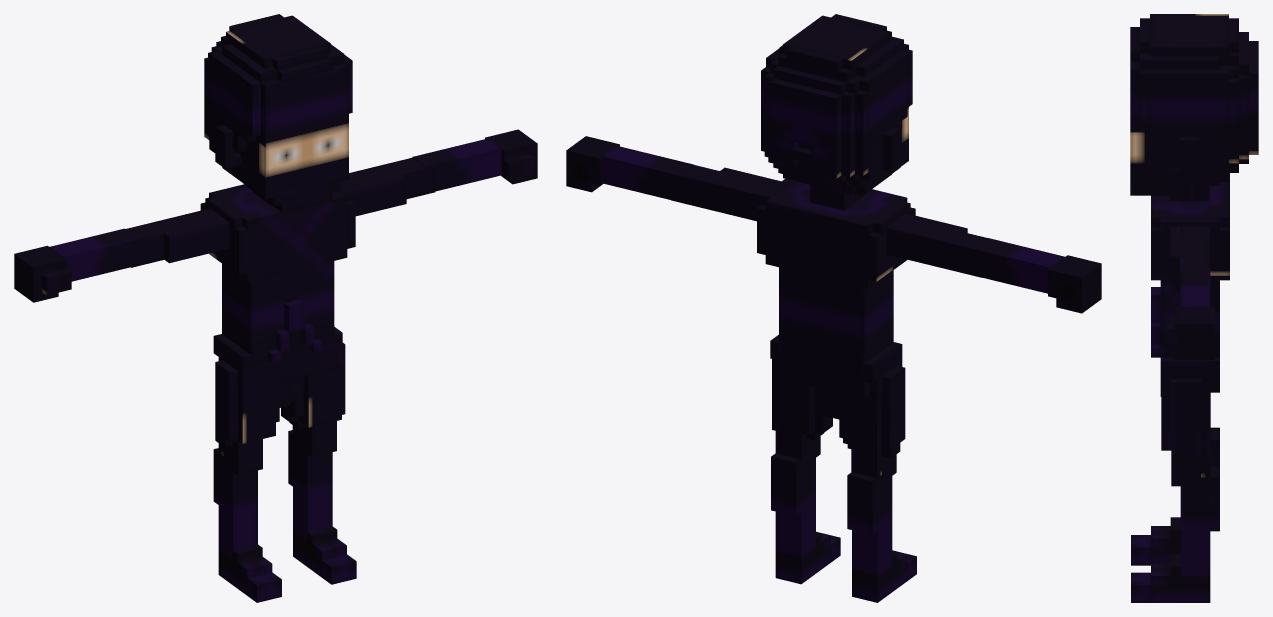
The model's file is ninja.glb.
3 views of the same model, side by side, from view 1: azimuth 30°, elevation 25°; view 2: azimuth 150°, elevation 25°; view 3: azimuth 270°, elevation 25° (orthographic). The views are drawn at different scales.
Visible parts, largest first — view 1: Ninja_Tpose; view 2: Ninja_Tpose; view 3: Ninja_Tpose.
Part boxes in pixels (box(x1,y1,x2,y2)): Ninja_Tpose: box(14, 14, 537, 602); Ninja_Tpose: box(566, 14, 1101, 602); Ninja_Tpose: box(1130, 14, 1258, 602).
Size of the model in its own units: 60.5 by 61.05 by 13.
Materials: 1 (1 with a texture image).
